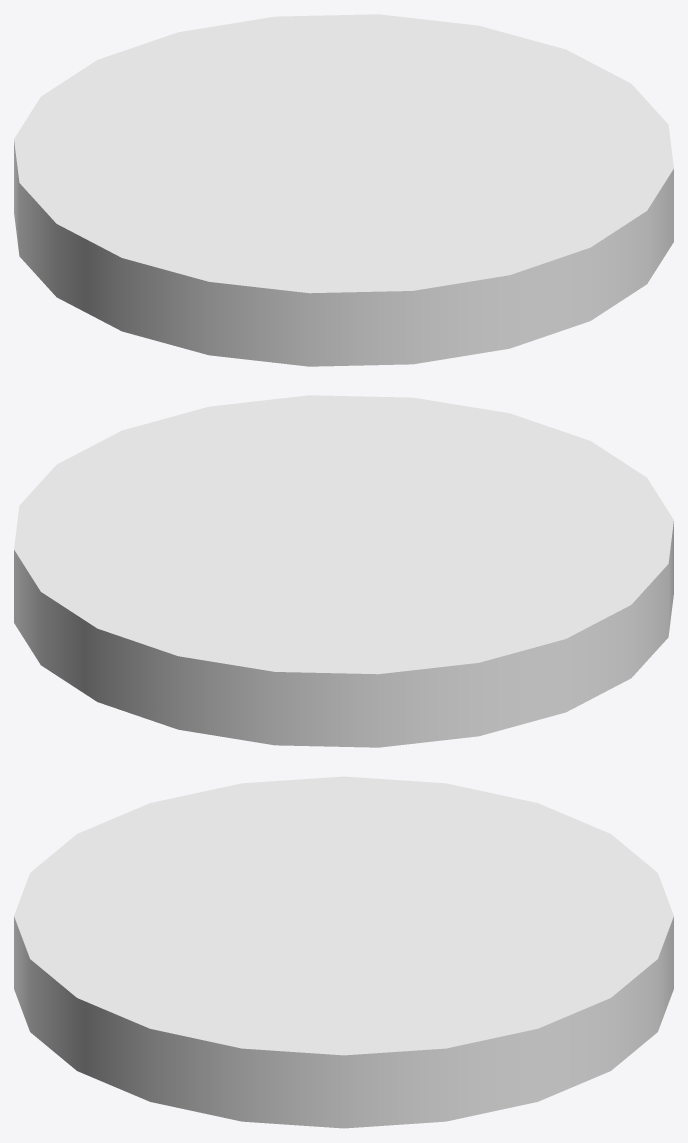
Rendered from TokenWhite.fbx.
3 renders of one model, top to bottom at view 1: azimuth 30°, elevation 25°; view 2: azimuth 150°, elevation 25°; view 3: azimuth 270°, elevation 25°, orthographic.
Visible parts, largest first — view 1: pCylinder1; view 2: pCylinder1; view 3: pCylinder1.
Boxes of the visible parts, bbox=[...] form: pCylinder1: bbox=[14, 14, 673, 366]; pCylinder1: bbox=[14, 395, 673, 747]; pCylinder1: bbox=[14, 776, 673, 1128].
Size of the model in its own units: 2 by 0.2444 by 2.
1 material, 1 textured.
